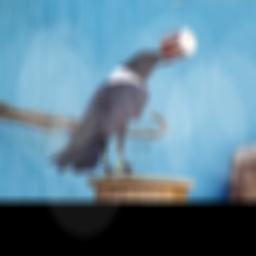Crow: (46, 49, 176, 178)
